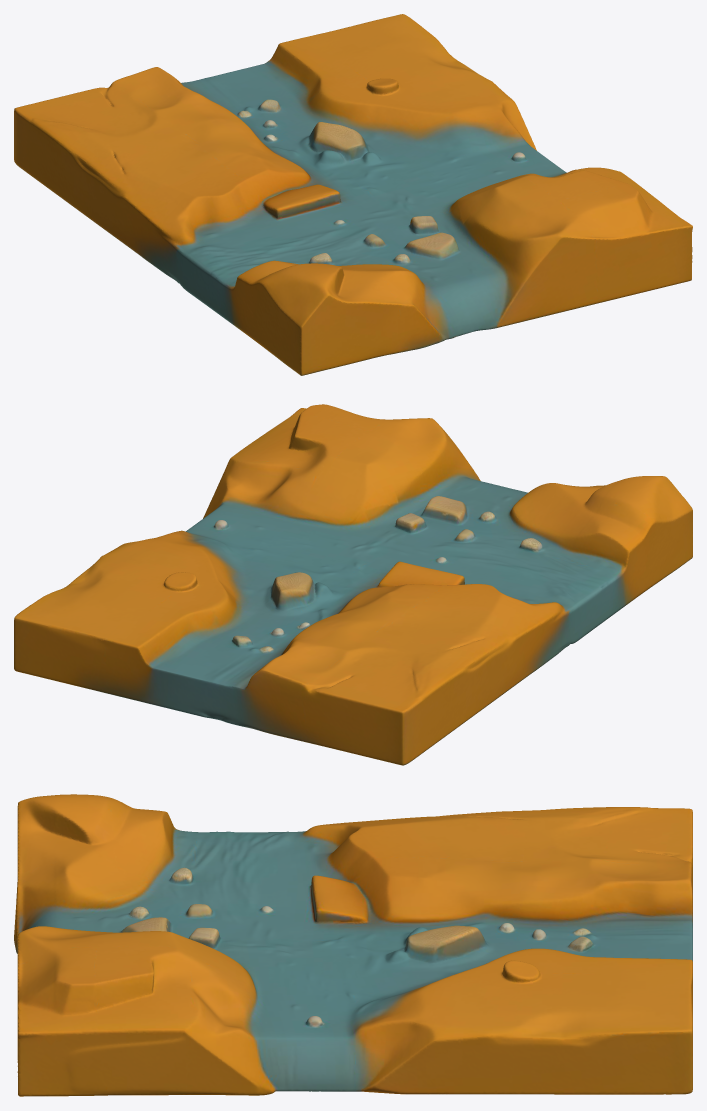
3 views of the same model, one above another, from view 1: azimuth 30°, elevation 25°; view 2: azimuth 150°, elevation 25°; view 3: azimuth 270°, elevation 25° (orthographic). The views are drawn at different scales.
Parts seen in each view (by area): view 1: tripo_node_3c54ec27-cdec-4198-b89c-782ce2205bf5; view 2: tripo_node_3c54ec27-cdec-4198-b89c-782ce2205bf5; view 3: tripo_node_3c54ec27-cdec-4198-b89c-782ce2205bf5.
Part boxes in pixels (<box>): tripo_node_3c54ec27-cdec-4198-b89c-782ce2205bf5: <box>14,14,692,375</box>; tripo_node_3c54ec27-cdec-4198-b89c-782ce2205bf5: <box>14,404,692,765</box>; tripo_node_3c54ec27-cdec-4198-b89c-782ce2205bf5: <box>14,794,692,1096</box>.
Size of the model in its own units: 0.7796 by 0.163 by 1.
Materials: 1 (1 with a texture image).
